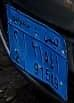city: (8, 26, 23, 67)
number: (23, 35, 67, 97)
text: (8, 7, 65, 57)
